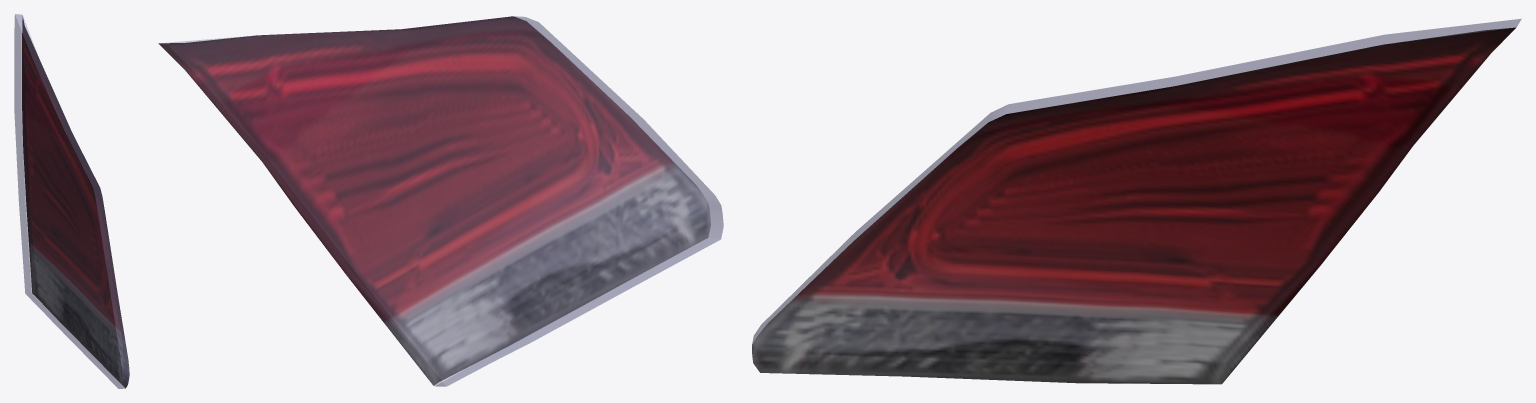
The picture shows the model from 3 angles, left to right: view 1: azimuth 30°, elevation 25°; view 2: azimuth 150°, elevation 25°; view 3: azimuth 270°, elevation 25°; orthographic projection. The views are drawn at different scales.
Parts seen in each view (by area): view 1: Y156_541D_L_1_DTaSI_Y156_541D_L, Y156_541D_L_Y156_541D_L_2_N; view 2: Y156_541D_L_1_DTaSI_Y156_541D_L, Y156_541D_L_Y156_541D_L_2_N; view 3: Y156_541D_L_Y156_541D_L_2_N, Y156_541D_L_1_DTaSI_Y156_541D_L.
Part boxes in pixels (x1,y1,x2,y2): Y156_541D_L_1_DTaSI_Y156_541D_L: [14, 14, 129, 388]; Y156_541D_L_Y156_541D_L_2_N: [22, 16, 129, 388]; Y156_541D_L_1_DTaSI_Y156_541D_L: [159, 16, 723, 386]; Y156_541D_L_Y156_541D_L_2_N: [158, 16, 710, 385]; Y156_541D_L_Y156_541D_L_2_N: [752, 27, 1515, 384]; Y156_541D_L_1_DTaSI_Y156_541D_L: [752, 18, 1521, 343].
Size of the model in its own units: 9.78 by 21.75 by 35.15.
